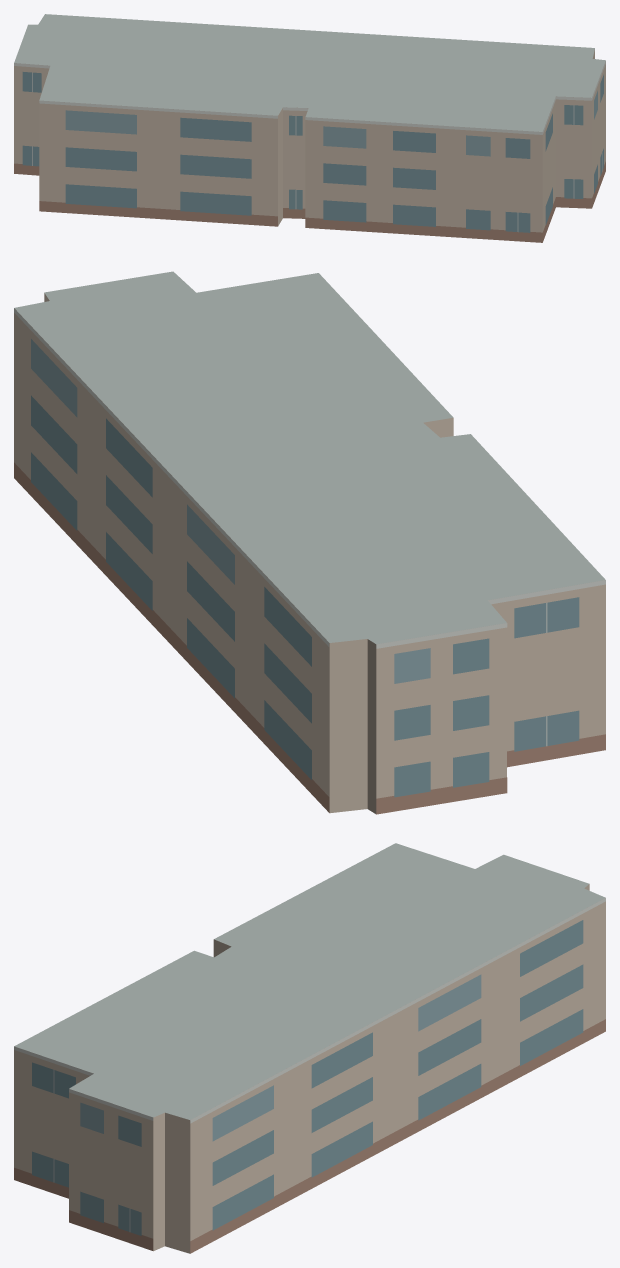
File: survey-upis-32588768.glb
3 views of the same model, one above another, from view 1: azimuth 30°, elevation 25°; view 2: azimuth 150°, elevation 25°; view 3: azimuth 270°, elevation 25° (orthographic). The views are drawn at different scales.
Visible parts, largest first — view 1: survey-upis-32588768.tmp; view 2: survey-upis-32588768.tmp; view 3: survey-upis-32588768.tmp.
Part boxes in pixels (x1,y1,x2,y2): survey-upis-32588768.tmp: (14,14,605,242); survey-upis-32588768.tmp: (14,271,605,814); survey-upis-32588768.tmp: (14,843,605,1253).
Size of the model in its own units: 40.67 by 9.15 by 36.72.
